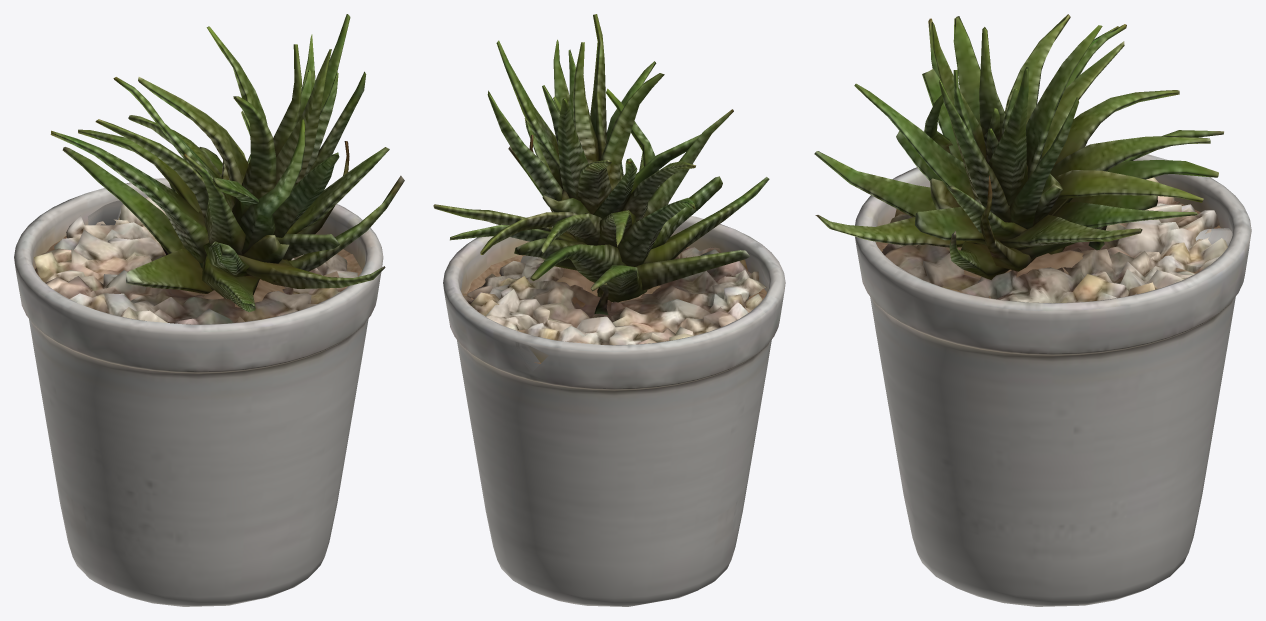
The model's file is potted_plant_04.gltf.
3 views of the same model, side by side, from view 1: azimuth 30°, elevation 25°; view 2: azimuth 150°, elevation 25°; view 3: azimuth 270°, elevation 25° (orthographic). The views are drawn at different scales.
Visible parts, largest first — view 1: potted_plant_04_pot, potted_plant_04_plant, potted_plant_04_ground, potted_plant_04_dirt; view 2: potted_plant_04_pot, potted_plant_04_plant, potted_plant_04_ground, potted_plant_04_dirt; view 3: potted_plant_04_pot, potted_plant_04_plant, potted_plant_04_ground, potted_plant_04_dirt.
Part boxes in pixels (x1,y1,x2,y2): potted_plant_04_pot: (14, 178, 383, 606); potted_plant_04_plant: (50, 14, 404, 312); potted_plant_04_ground: (34, 197, 357, 324); potted_plant_04_dirt: (34, 236, 362, 307); potted_plant_04_pot: (443, 216, 785, 606); potted_plant_04_plant: (433, 14, 769, 315); potted_plant_04_ground: (463, 247, 766, 345); potted_plant_04_dirt: (462, 247, 766, 363); potted_plant_04_pot: (855, 145, 1251, 606); potted_plant_04_plant: (814, 14, 1223, 279); potted_plant_04_ground: (882, 177, 1227, 303); potted_plant_04_dirt: (876, 201, 1220, 298).
Size of the model in its own units: 0.1679 by 0.2673 by 0.1848.
Materials: 1 (1 with a texture image).
